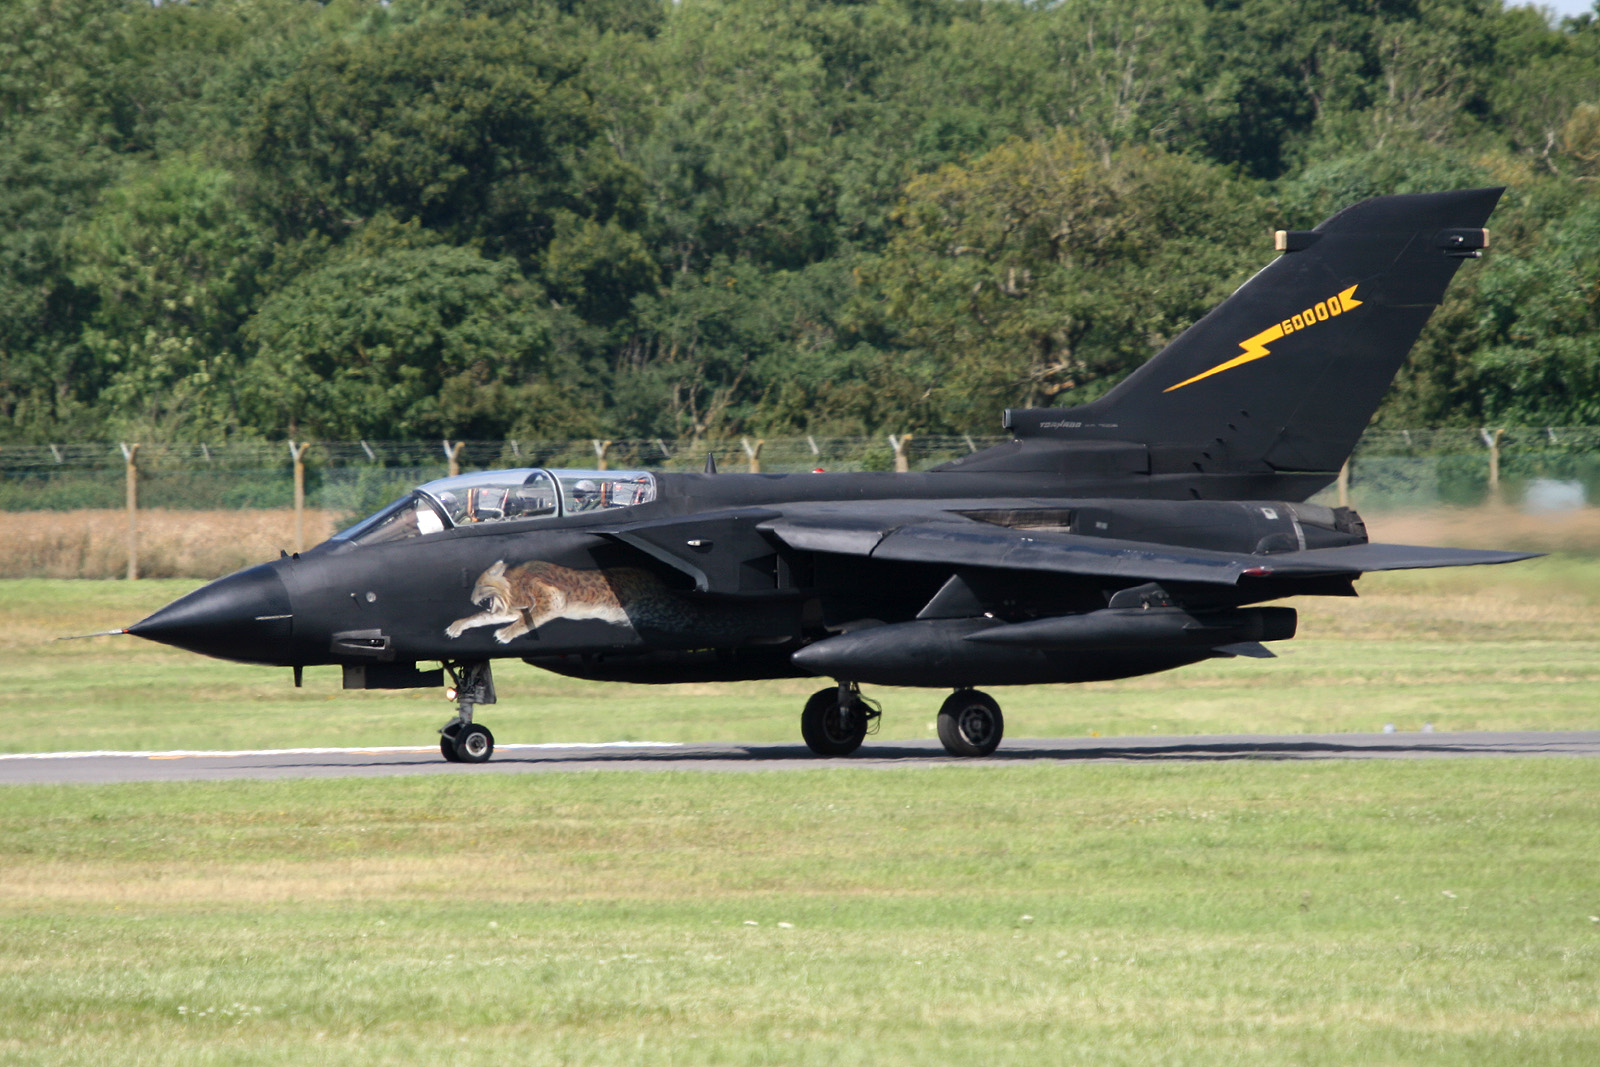Tornado: (57, 185, 1552, 765)
